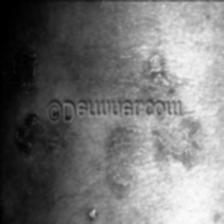Non-Cancerous Skin Condition: (106, 122, 208, 199), (10, 124, 75, 160), (135, 54, 180, 94), (83, 202, 99, 220)
